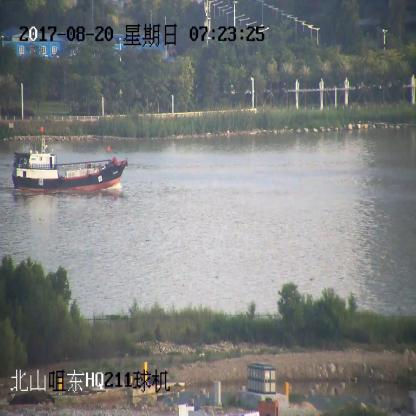Fishing Boat: (13, 134, 128, 193)
